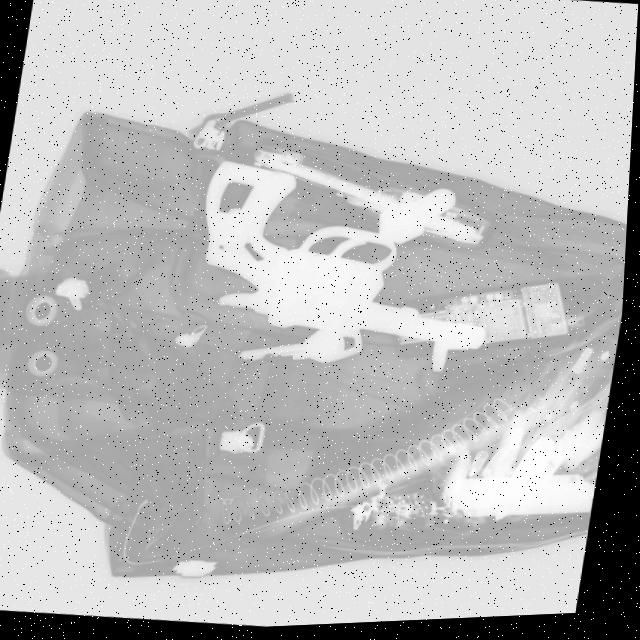pistol: (180, 147, 519, 370)
